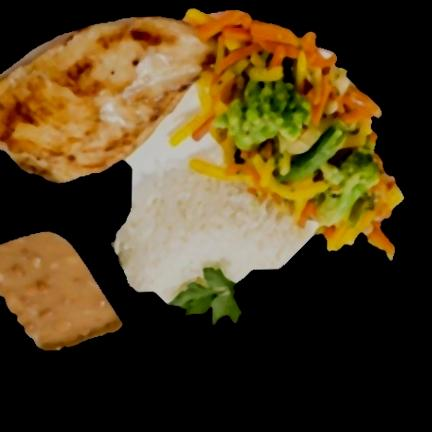beans: (0, 234, 121, 349)
broccoli: (269, 120, 378, 225), (186, 10, 336, 75), (216, 81, 321, 172), (341, 92, 381, 122)
carrot: (220, 15, 335, 66), (188, 12, 216, 38), (216, 49, 242, 72)
chicken: (0, 18, 216, 183)
rice: (114, 113, 316, 303)
